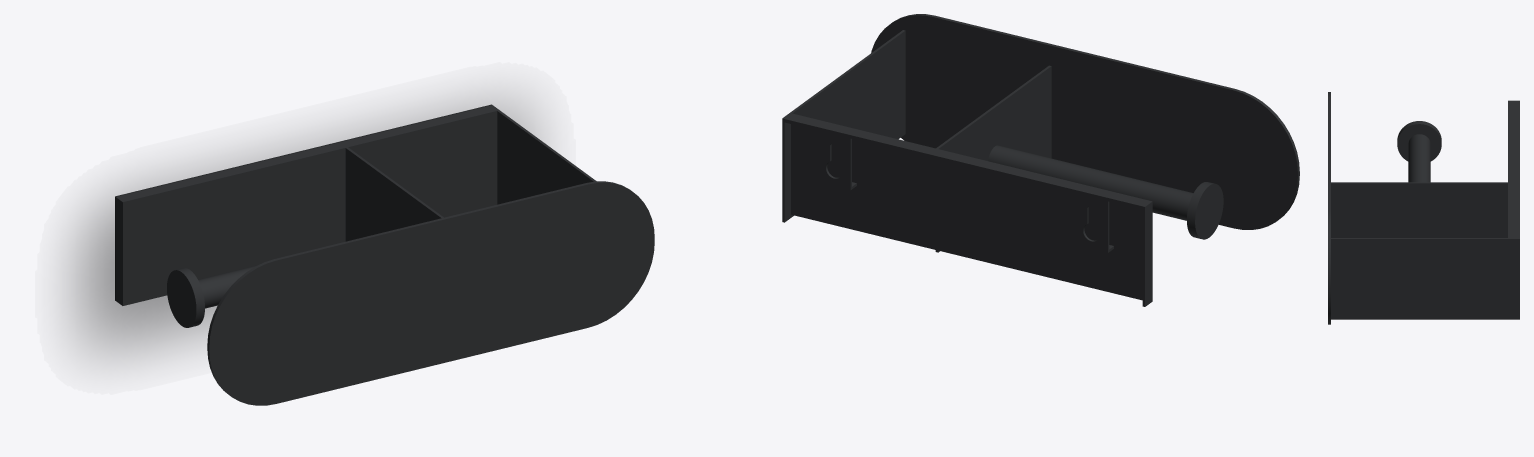
File: round-duetto.dd4062db08.ar.glb
The picture shows the model from 3 angles, left to right: view 1: azimuth 30°, elevation 25°; view 2: azimuth 150°, elevation 25°; view 3: azimuth 270°, elevation 25°; orthographic projection. The views are drawn at different scales.
Parts seen in each view (by area): view 1: NAUO1, object 2; view 2: NAUO1; view 3: NAUO1.
Part boxes in pixels (bbox=[...]): NAUO1: bbox=[115, 104, 654, 405]; object 2: bbox=[69, 101, 537, 355]; NAUO1: bbox=[782, 14, 1299, 306]; NAUO1: bbox=[1328, 92, 1519, 324].
Size of the model in its own units: 0.34 by 0.16 by 0.129.
2 materials, 1 textured.
